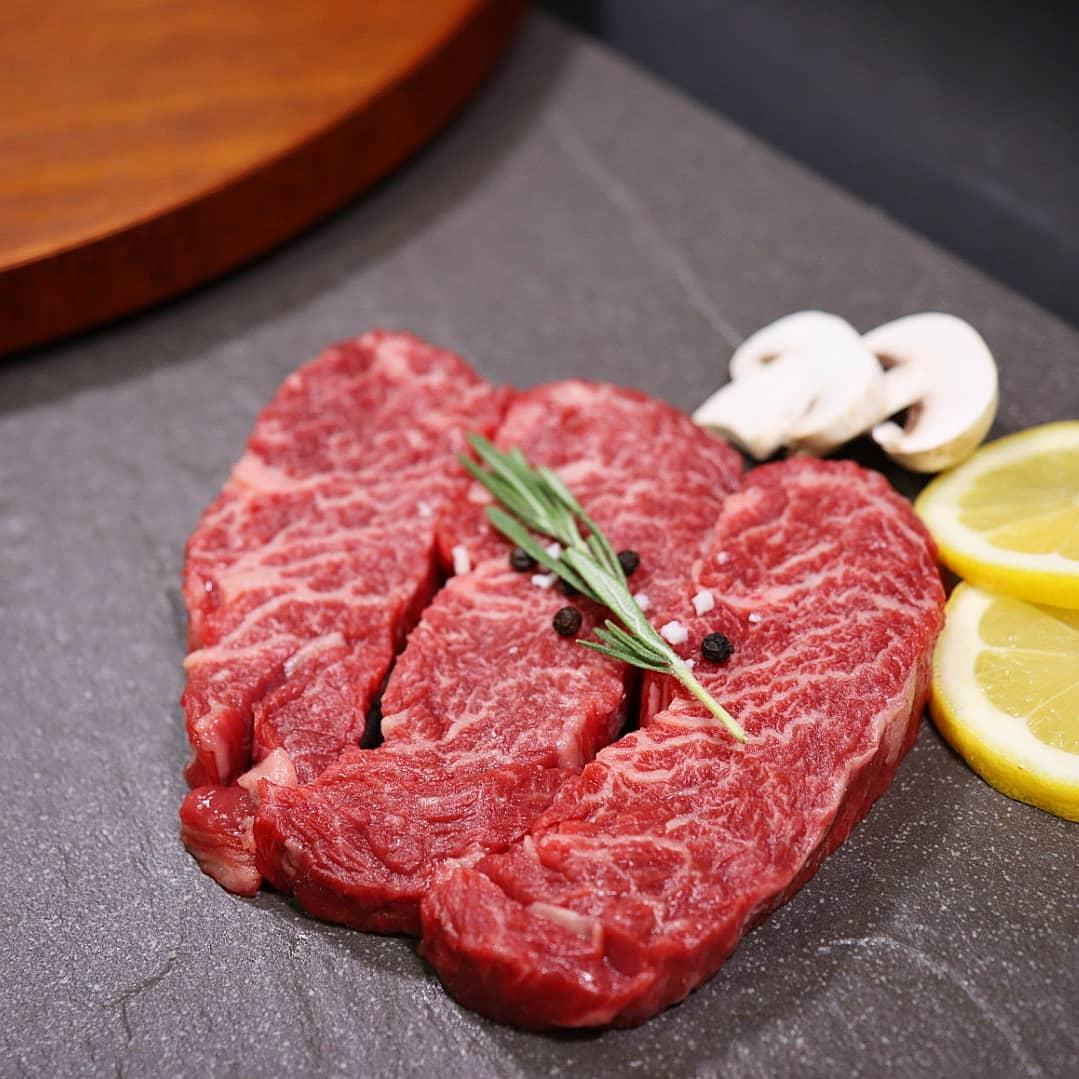beef: (408, 792, 860, 1079), (858, 852, 1079, 1079)
